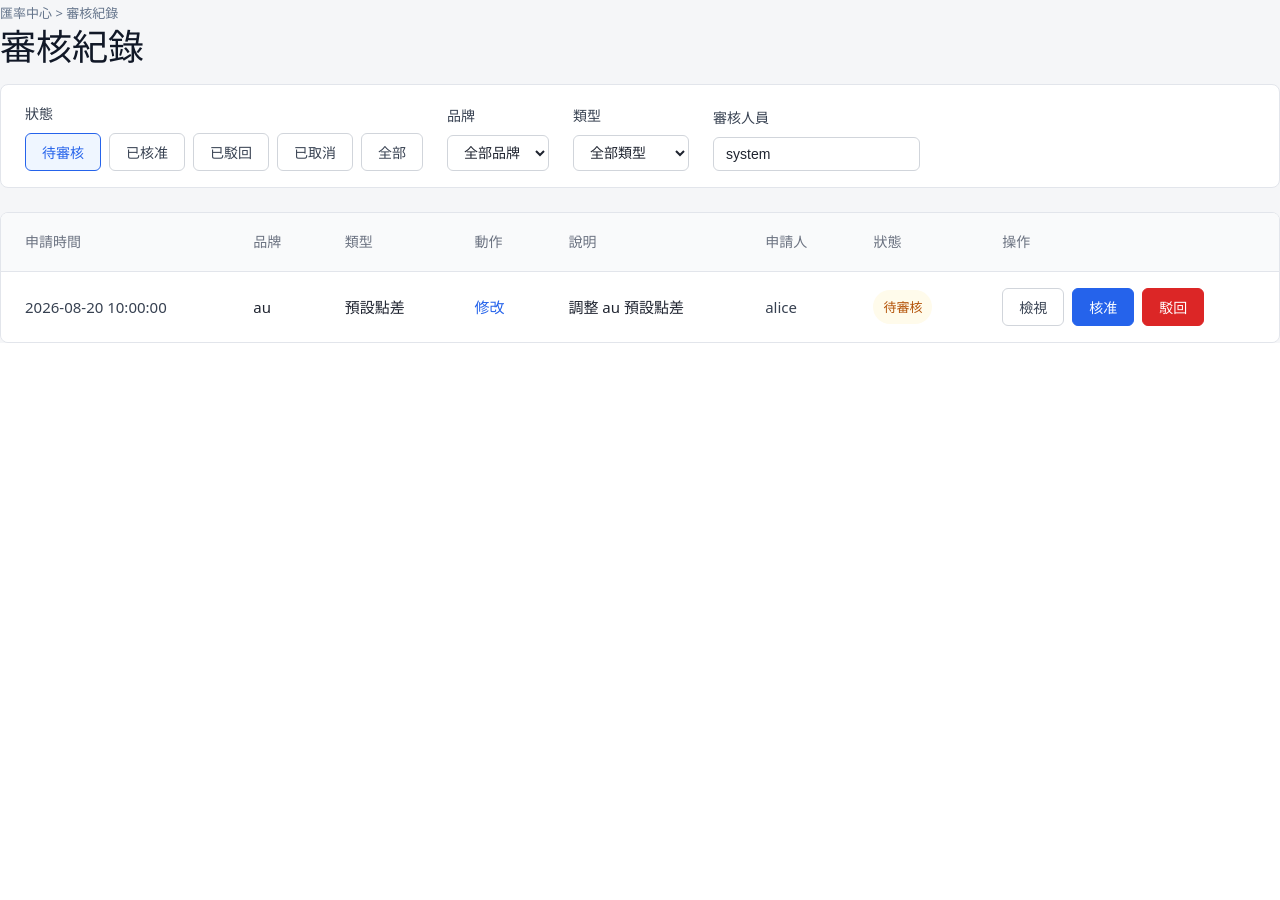
Scenario: AuditRequestPage › renders CREATE rows with — for 原值 and DELETE rows with — for 新值
Expected: the text "調整 au 預設點差" is shown, [544, 272, 741, 342]
Click the button "檢視". click: [1033, 307]
box: [1002, 288, 1064, 326]
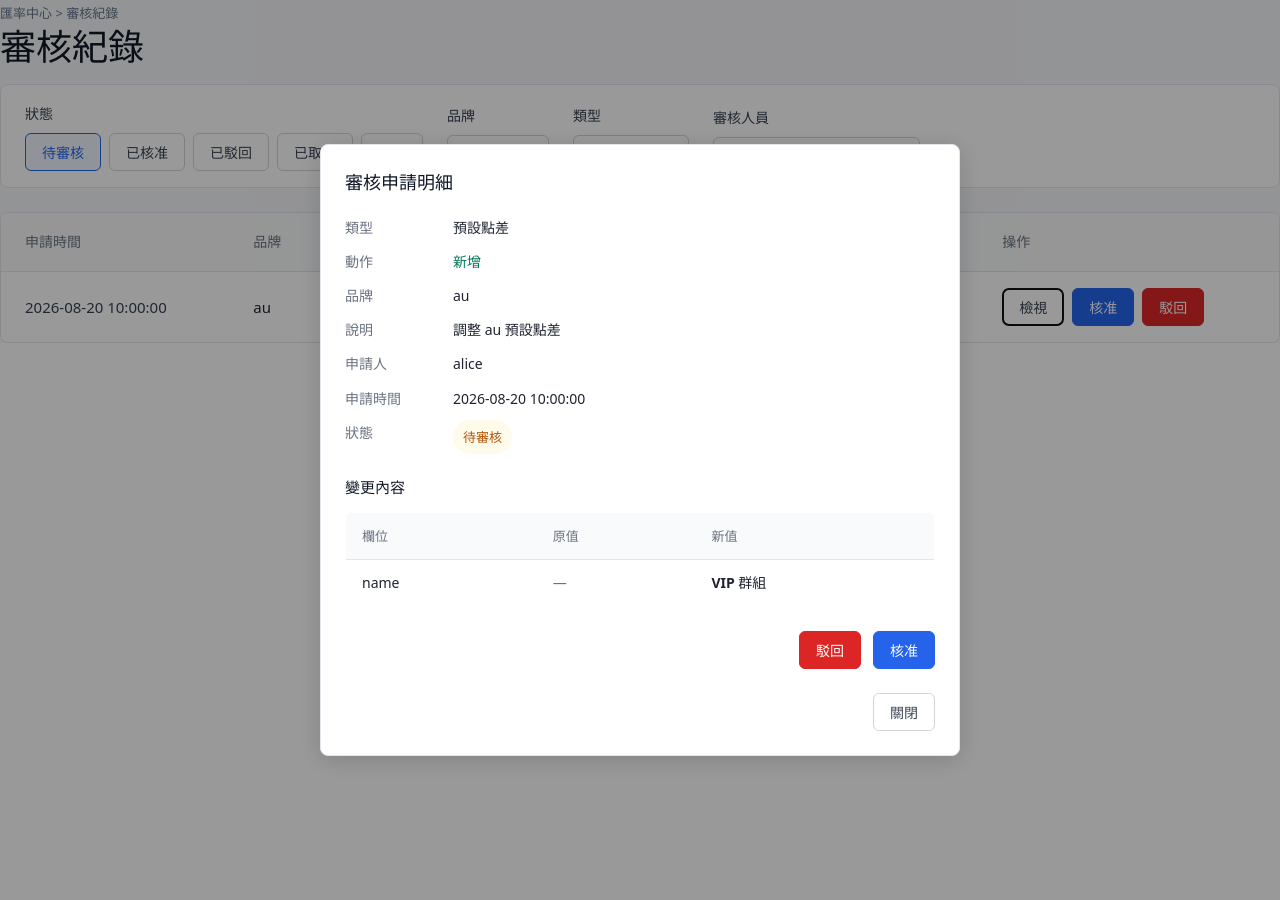
Expected: the text "name" is shown, [346, 559, 537, 606]
Expected: the text "VIP 群組" is shown, [695, 559, 934, 606]
Expected: the text "—" is shown, [537, 559, 695, 606]
